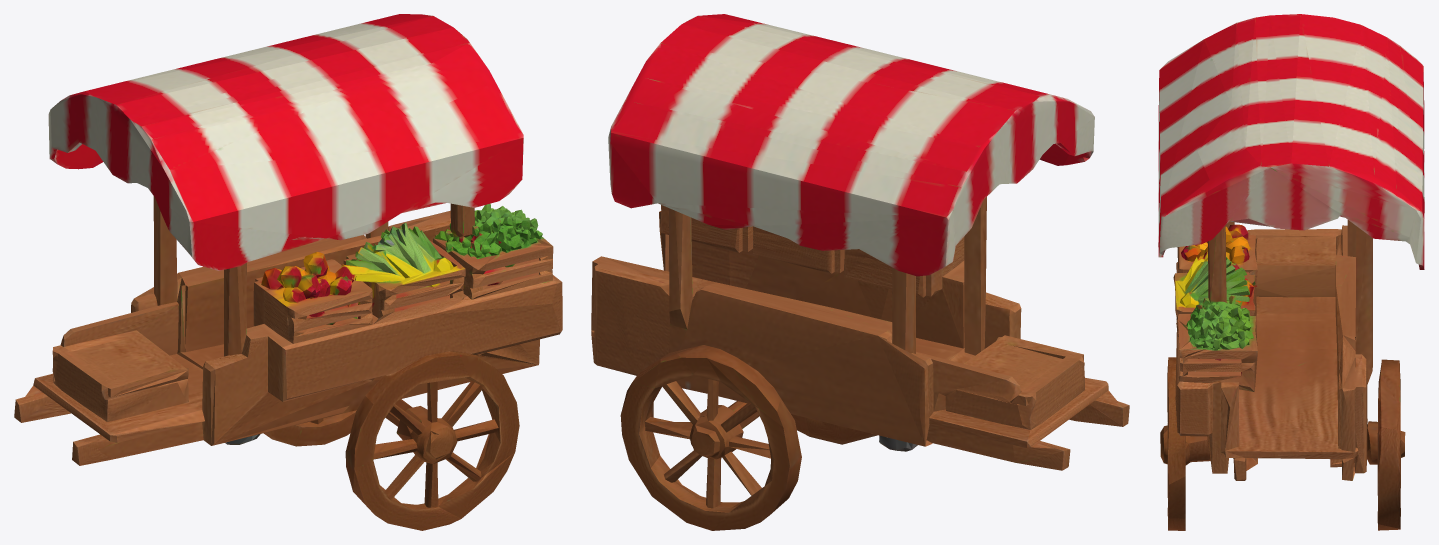
Rendered from garden_cart.glb.
3 views of the same model, side by side, from view 1: azimuth 30°, elevation 25°; view 2: azimuth 150°, elevation 25°; view 3: azimuth 270°, elevation 25° (orthographic). The views are drawn at different scales.
Bounding box in the file's own units: 1.9 × 1.69 × 1.03.
Materials: 1 (1 with a texture image).
